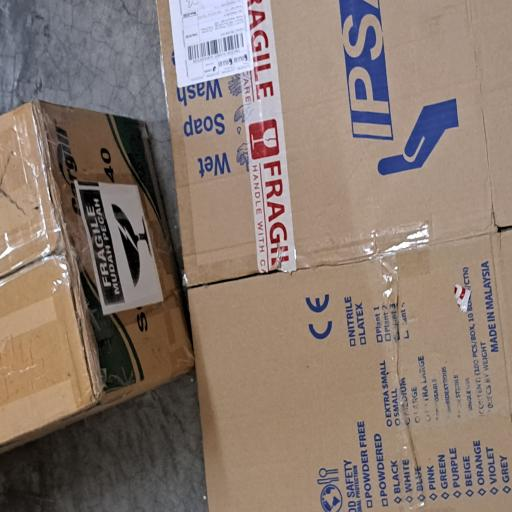cardboard: (0, 204, 384, 512), (42, 0, 312, 258)
